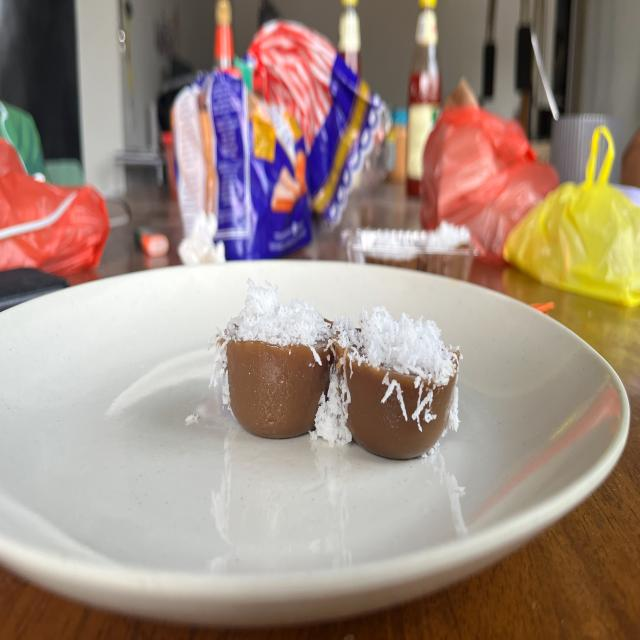Kuih lompang: (315, 307, 460, 460), (226, 280, 334, 438)
